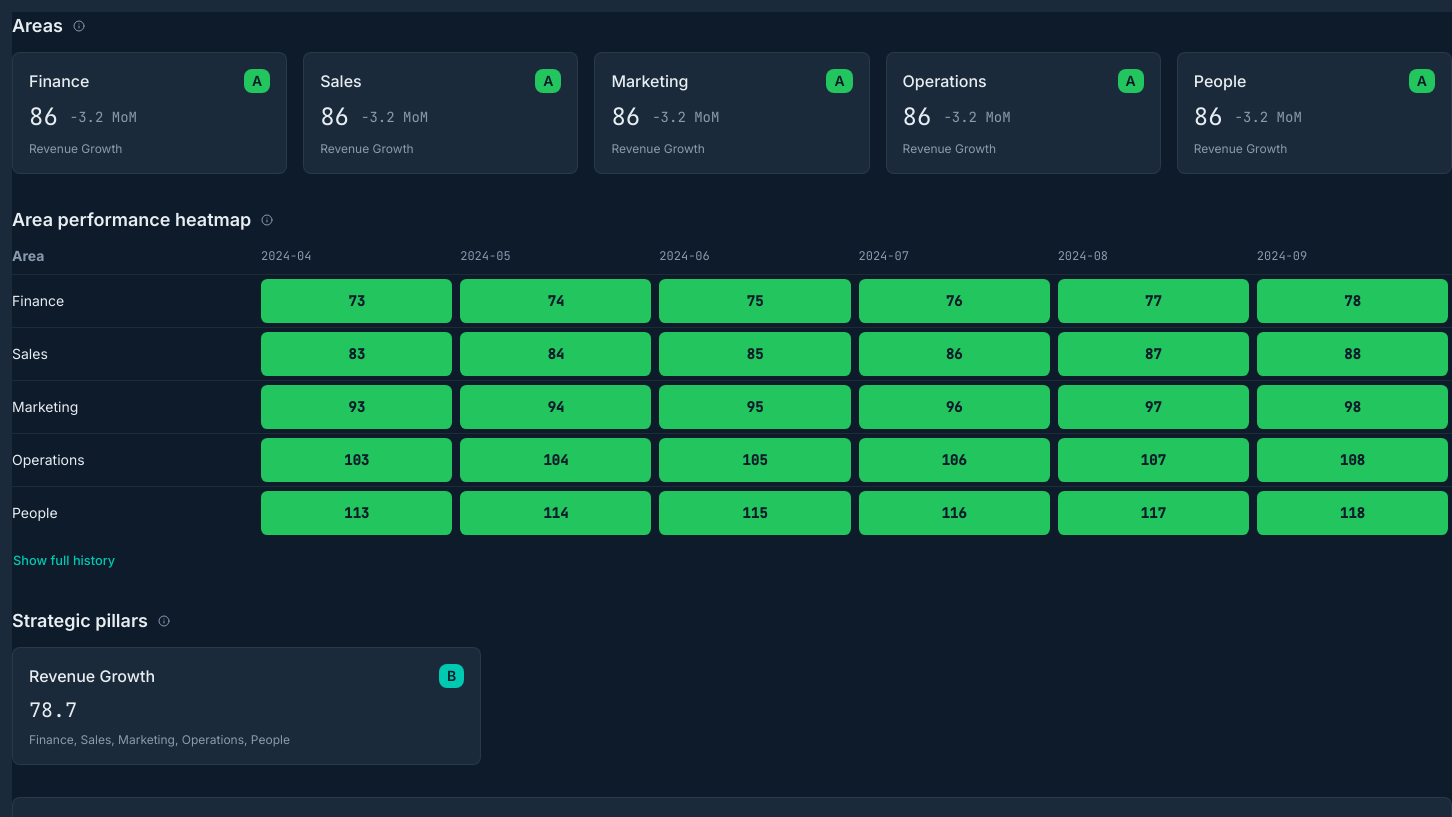
Test: Executive › defaults the heatmap to the most recent 6 periods and expands to full history on request
Expected: the text "2024-01" is not shown
Expected: the column heading "2024-09" is shown, left=1253, top=246, right=1451, bottom=274
Step 1. Click the button "Show full history" → click(64, 561), box left=12, top=547, right=116, bottom=575
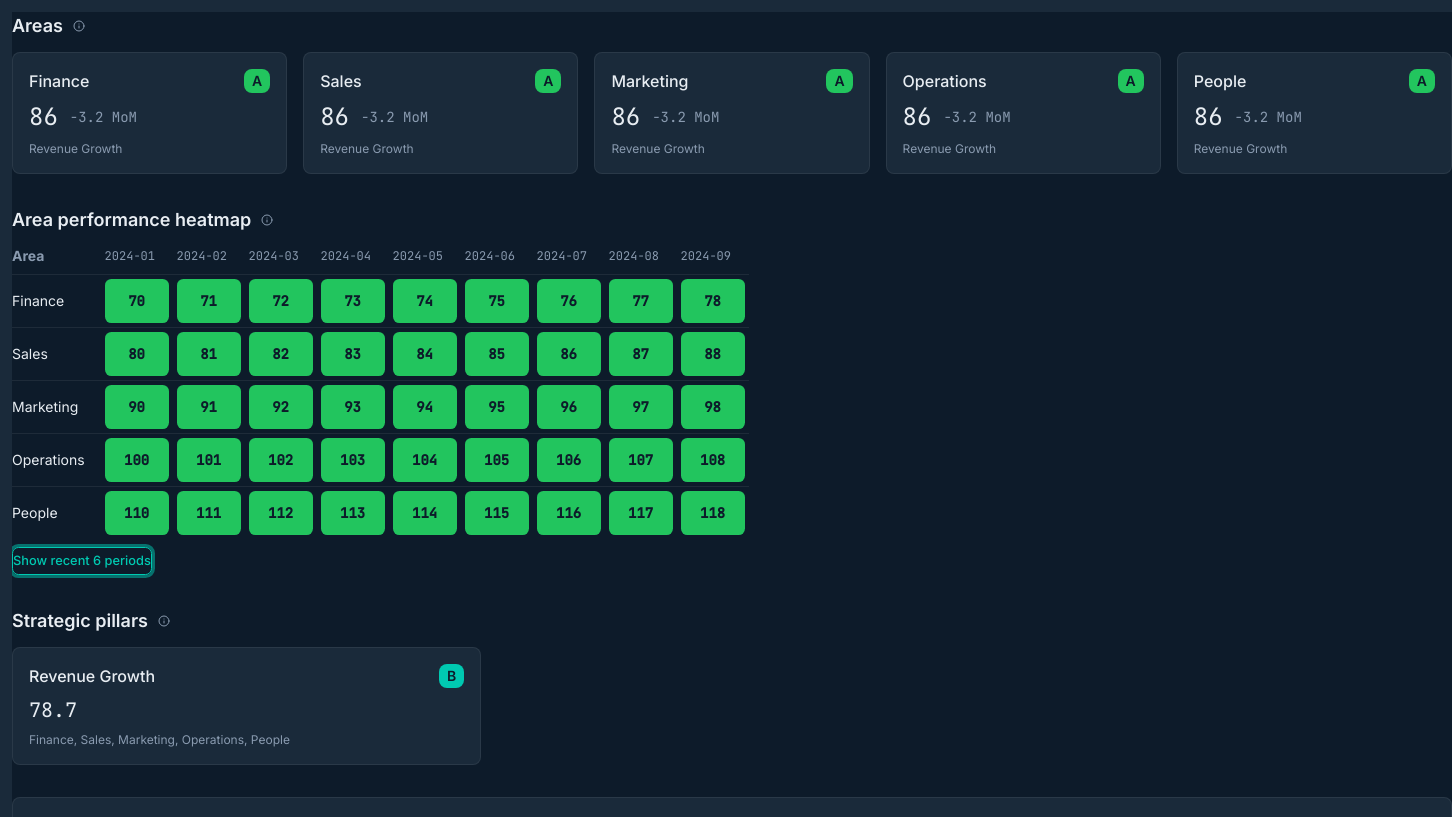
Result: the column heading "2024-01" is shown at left=101, top=246, right=173, bottom=274
Result: the button "Show recent 6 periods" is shown at left=12, top=547, right=152, bottom=575
